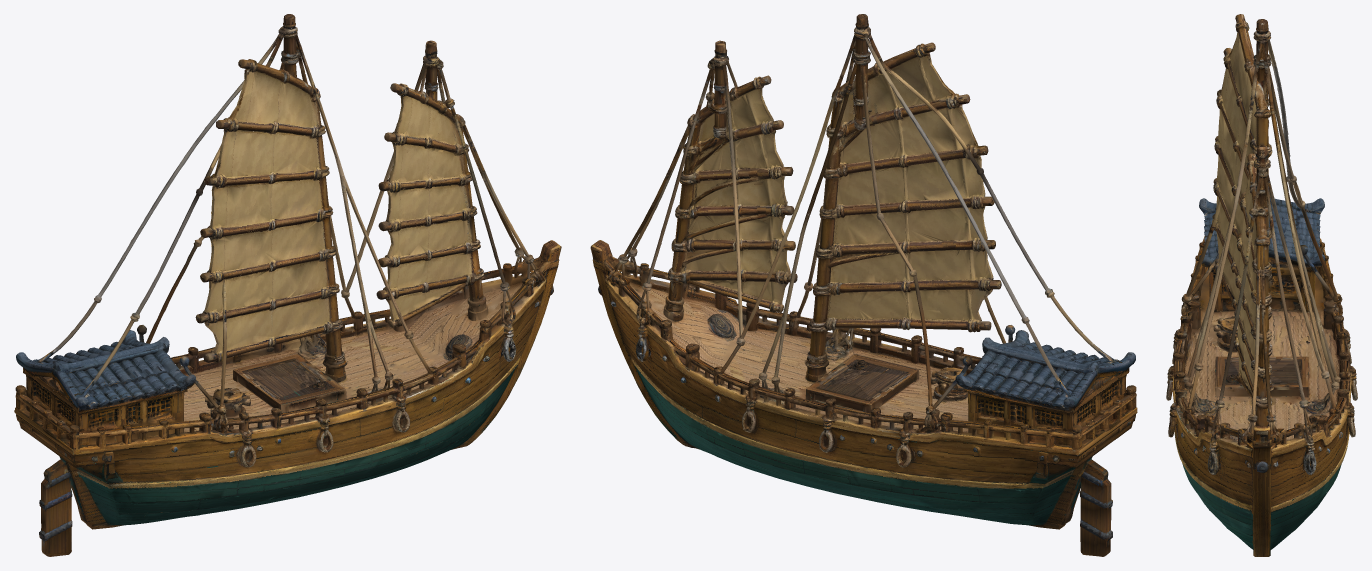
File: merchant-ship-a.glb
3 views of the same model, side by side, from view 1: azimuth 30°, elevation 25°; view 2: azimuth 150°, elevation 25°; view 3: azimuth 270°, elevation 25° (orthographic). The views are drawn at different scales.
Visible parts, largest first — view 1: GEO-MerchantShip; view 2: GEO-MerchantShip; view 3: GEO-MerchantShip.
Boxes of the visible parts, <box> form: GEO-MerchantShip: <box>14,14,561,556</box>; GEO-MerchantShip: <box>590,14,1137,556</box>; GEO-MerchantShip: <box>1166,14,1357,556</box>.
Bounding box in the file's own units: 16 × 14.3 × 5.32.
1 material, 1 textured.
